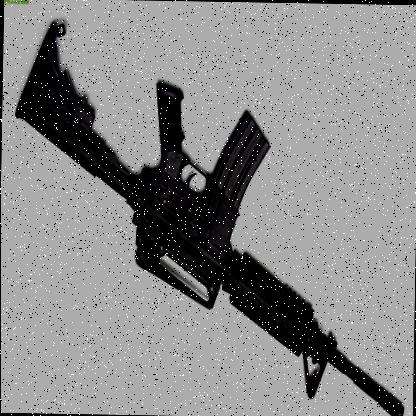rifle: (11, 20, 413, 416)
